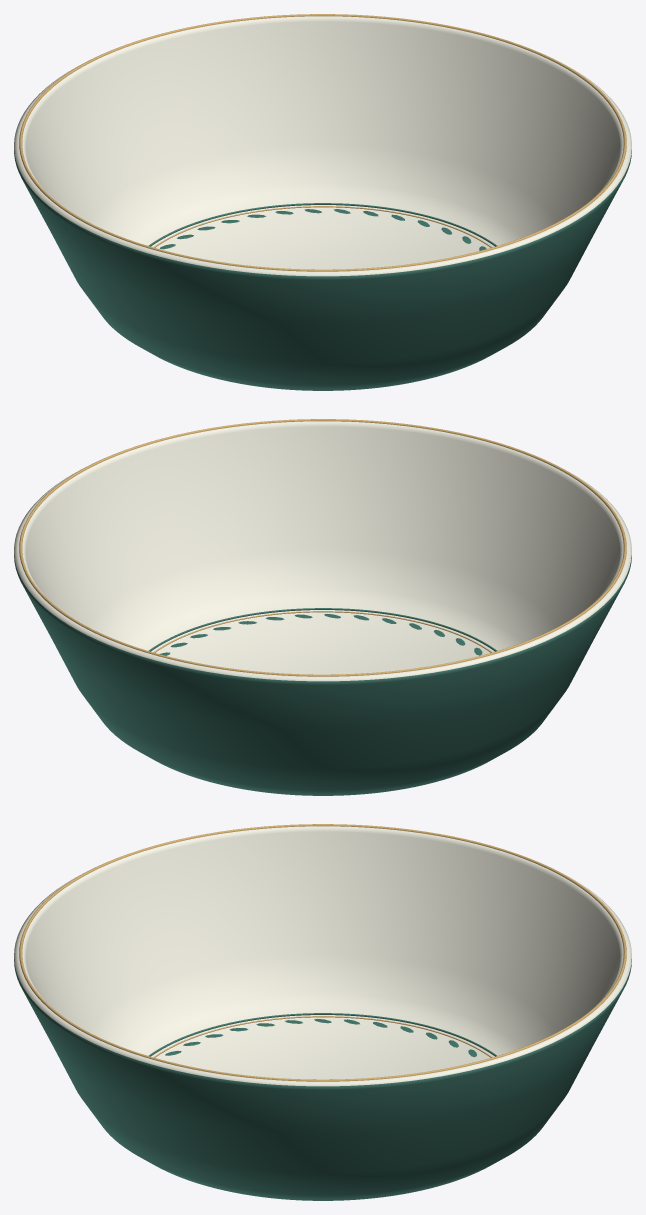
Rendered from bowl.glb.
The picture shows the model from 3 angles, top to bottom: view 1: azimuth 30°, elevation 25°; view 2: azimuth 150°, elevation 25°; view 3: azimuth 270°, elevation 25°; orthographic projection.
Parts seen in each view (by area): view 1: Bobing_Bowl, Gilt_Rim, Inner_Celadon_Line, Inner_Gilt_Line; view 2: Bobing_Bowl, Gilt_Rim, Inner_Celadon_Line, Inner_Gilt_Line; view 3: Bobing_Bowl, Gilt_Rim, Inner_Celadon_Line, Inner_Gilt_Line.
Boxes of the visible parts, left/top/right/bottom form: Bobing_Bowl: left=14, top=16, right=631, bottom=390; Gilt_Rim: left=19, top=14, right=626, bottom=271; Inner_Celadon_Line: left=148, top=203, right=497, bottom=246; Inner_Gilt_Line: left=154, top=206, right=492, bottom=247; Bobing_Bowl: left=14, top=421, right=631, bottom=795; Gilt_Rim: left=19, top=419, right=626, bottom=676; Inner_Celadon_Line: left=148, top=608, right=497, bottom=651; Inner_Gilt_Line: left=153, top=611, right=491, bottom=652; Bobing_Bowl: left=14, top=826, right=631, bottom=1200; Gilt_Rim: left=19, top=824, right=626, bottom=1081; Inner_Celadon_Line: left=149, top=1013, right=496, bottom=1056; Inner_Gilt_Line: left=154, top=1016, right=491, bottom=1057.
Size of the model in its own units: 7.28 by 2.26 by 7.28.
